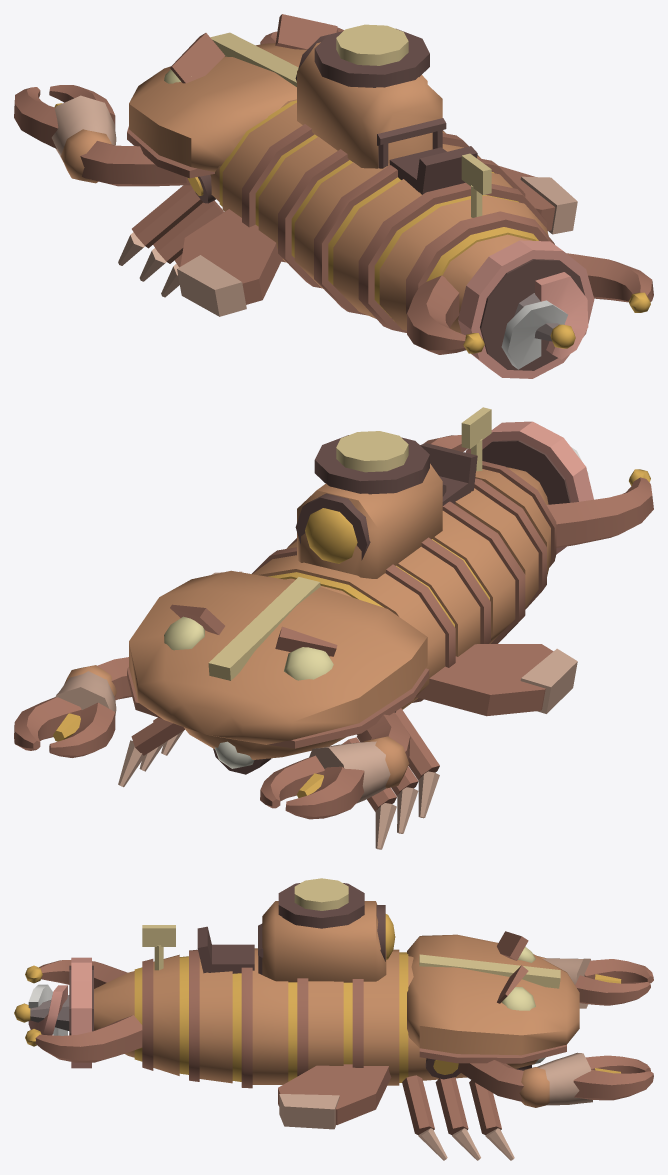
The model's file is VentCrawler.glb.
The picture shows the model from 3 angles, top to bottom: view 1: azimuth 30°, elevation 25°; view 2: azimuth 150°, elevation 25°; view 3: azimuth 270°, elevation 25°; orthographic projection. The views are drawn at different scales.
Visible parts, largest first — view 1: Hull, Hull_Glow, Prop, Seat; view 2: Hull, Hull_Glow, Seat, Light; view 3: Hull, Hull_Glow, Seat, Prop.
Boxes of the visible parts, bbox=[...] form: Hull: bbox=[14, 14, 653, 378]; Hull_Glow: bbox=[54, 69, 650, 353]; Prop: bbox=[501, 272, 588, 369]; Seat: bbox=[377, 118, 477, 194]; Hull: bbox=[14, 407, 653, 849]; Hull_Glow: bbox=[53, 469, 650, 797]; Seat: bbox=[420, 443, 477, 505]; Light: bbox=[214, 741, 254, 768]; Hull: bbox=[35, 878, 653, 1160]; Hull_Glow: bbox=[25, 914, 621, 1082]; Seat: bbox=[197, 923, 263, 974]; Prop: bbox=[28, 984, 69, 1035].
Size of the model in its own units: 26.12 by 18.92 by 49.6.
